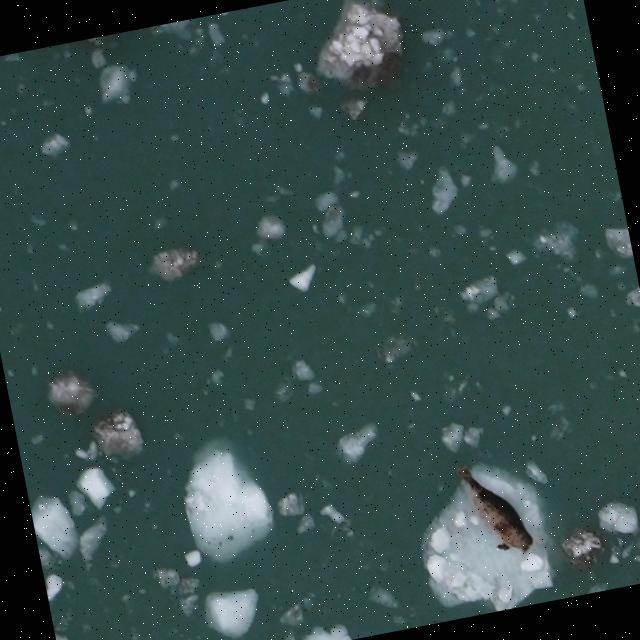seal: (451, 453, 539, 566)
